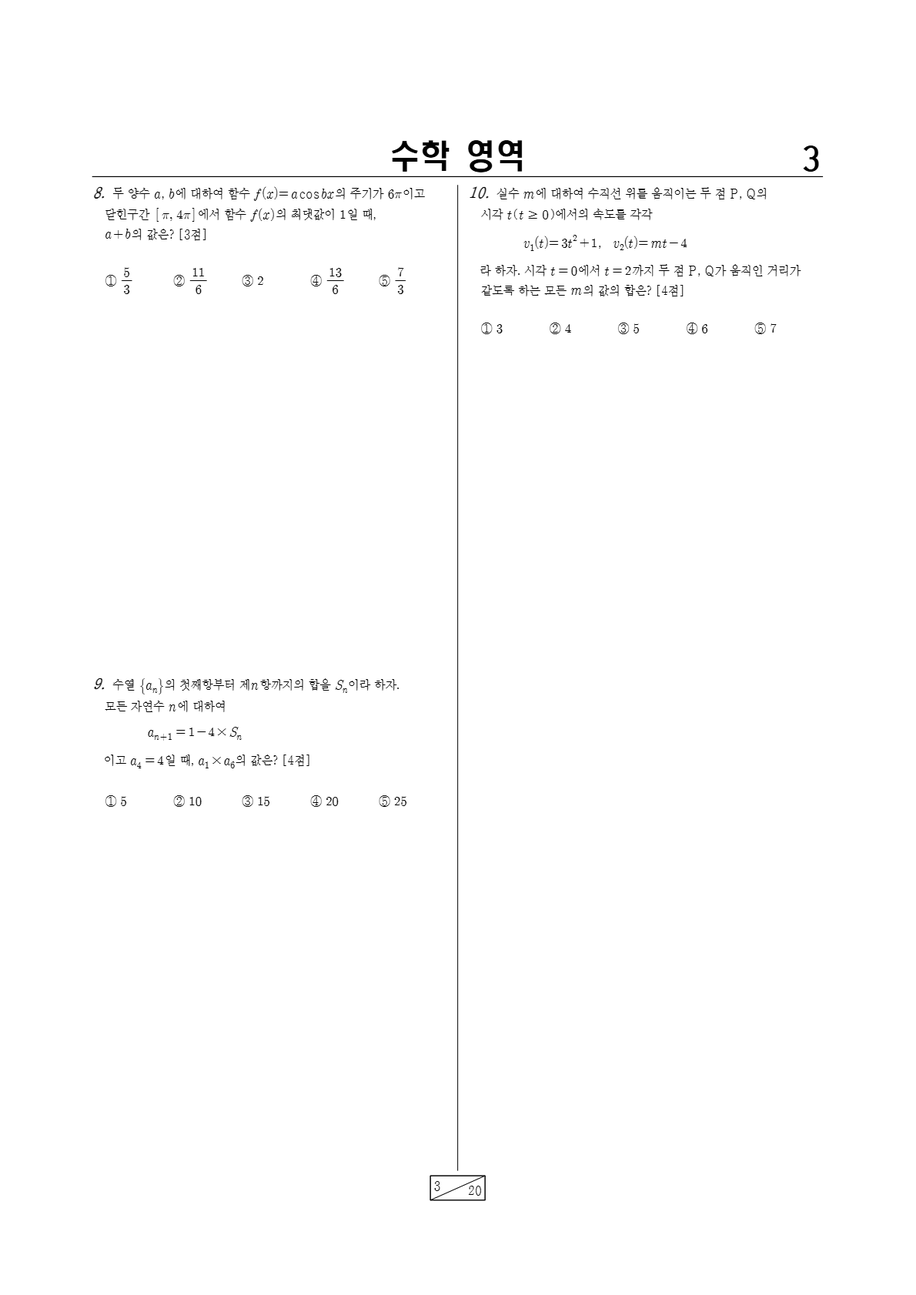opt_1: (104, 272, 116, 287), (105, 793, 116, 807), (480, 322, 492, 334)
opt_2: (172, 273, 185, 286), (172, 795, 184, 807), (549, 322, 560, 334)
opt_3: (617, 321, 629, 334), (242, 273, 253, 286), (242, 795, 253, 807)
opt_4: (310, 794, 323, 808), (309, 273, 321, 286), (686, 321, 697, 334)
opt_5: (378, 273, 390, 286), (754, 321, 765, 334), (379, 794, 390, 807)
